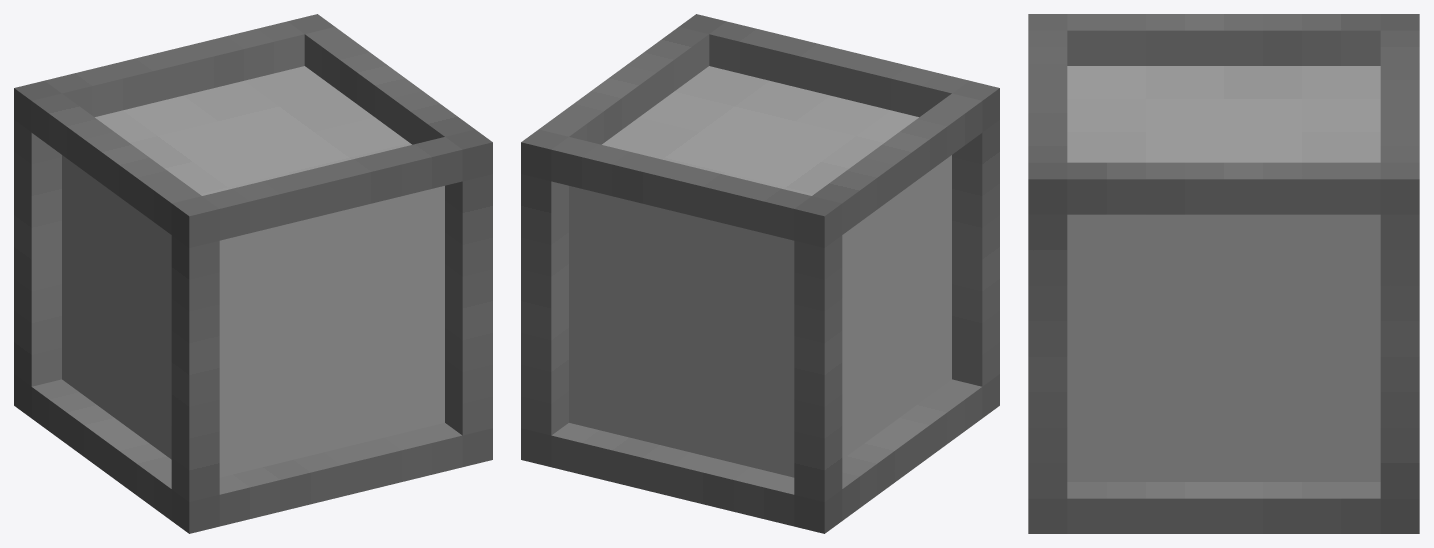
The model's file is simple1.obj.
The picture shows the model from 3 angles, left to right: view 1: azimuth 30°, elevation 25°; view 2: azimuth 150°, elevation 25°; view 3: azimuth 270°, elevation 25°; orthographic projection. The views are drawn at different scales.
Visible parts, largest first — view 1: Cube.001_Cube.006; view 2: Cube.001_Cube.006; view 3: Cube.001_Cube.006.
Boxes of the visible parts, x1,y1,x2,y2 form: Cube.001_Cube.006: (14,14,492,533); Cube.001_Cube.006: (521,14,999,533); Cube.001_Cube.006: (1028,14,1419,533).
Size of the model in its own units: 0.5 by 0.5 by 0.5.
